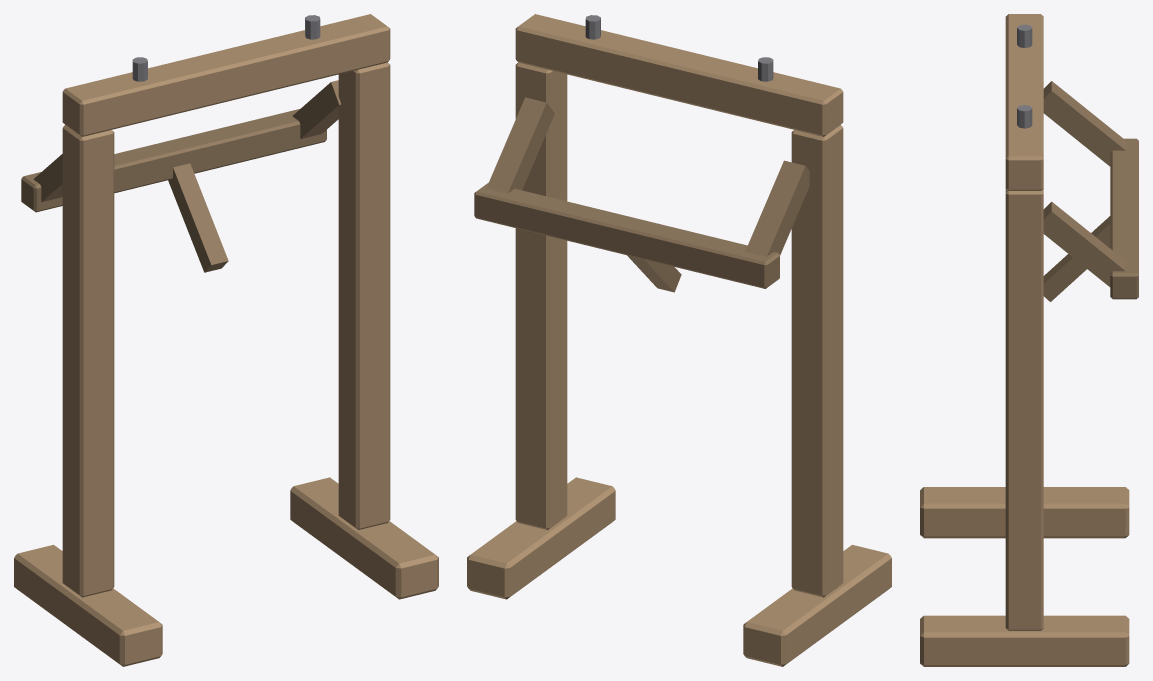
Rendered from prop-saddle-rack-wood.fbx.
The picture shows the model from 3 angles, left to right: view 1: azimuth 30°, elevation 25°; view 2: azimuth 150°, elevation 25°; view 3: azimuth 270°, elevation 25°; orthographic projection. The views are drawn at different scales.
Visible parts, largest first — view 1: prop-saddle-rack-wood; view 2: prop-saddle-rack-wood; view 3: prop-saddle-rack-wood.
Part boxes in pixels (x1=…): prop-saddle-rack-wood: x1=14, y1=14, x2=438, y2=666; prop-saddle-rack-wood: x1=467, y1=14, x2=891, y2=666; prop-saddle-rack-wood: x1=920, y1=14, x2=1138, y2=666.
Bounding box in the file's own units: 0.74 × 1.22 × 0.46.
